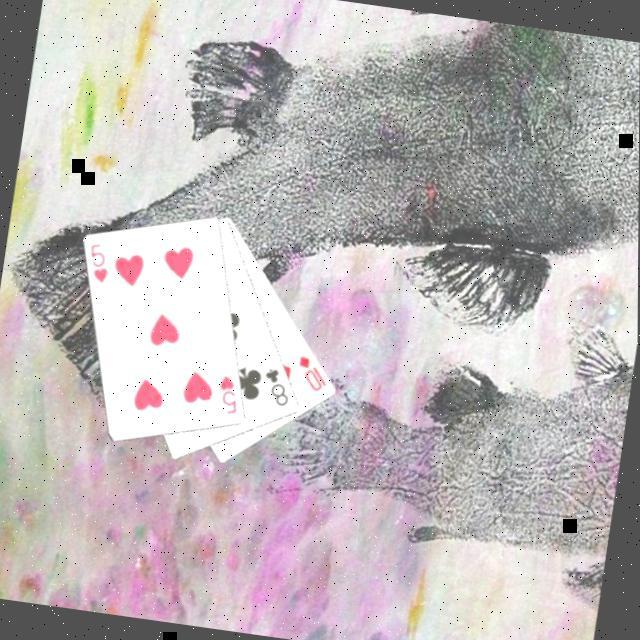10D: (293, 353, 335, 398)
5H: (83, 240, 115, 288), (214, 373, 246, 420)
8C: (259, 365, 298, 411)
